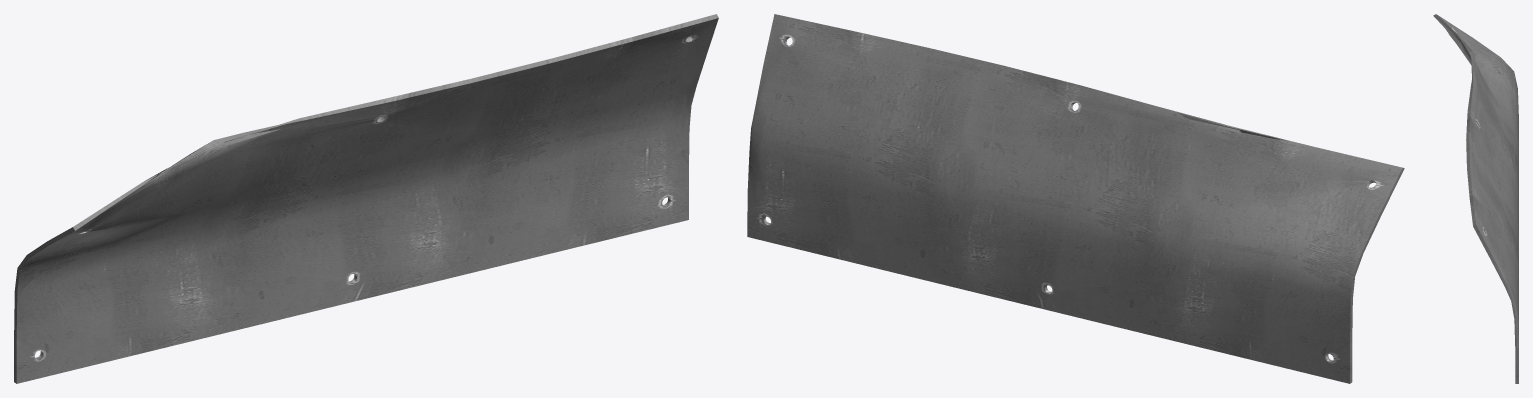
File: PlatesBend.fbx
3 renders of one model, left to right at view 1: azimuth 30°, elevation 25°; view 2: azimuth 150°, elevation 25°; view 3: azimuth 270°, elevation 25°, orthographic. The views are drawn at different scales.
Parts seen in each view (by area): view 1: PlateBent; view 2: PlateBent; view 3: PlateBent.
Boxes of the visible parts, left/top/right/bottom form: PlateBent: left=14, top=14, right=718, bottom=383; PlateBent: left=747, top=14, right=1404, bottom=383; PlateBent: left=1433, top=14, right=1518, bottom=383.
Size of the model in its own units: 150 by 48.26 by 23.62.
